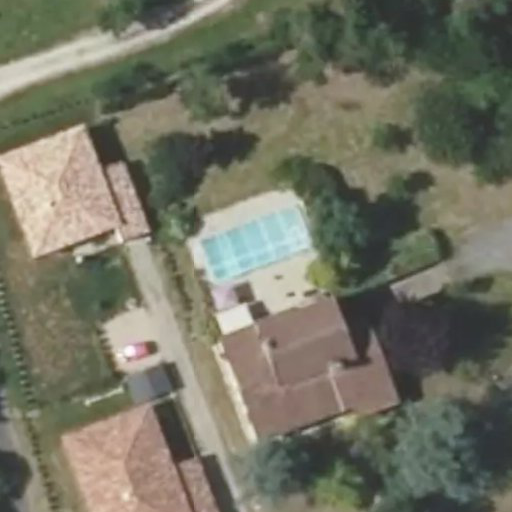pool: (197, 236, 315, 247)
